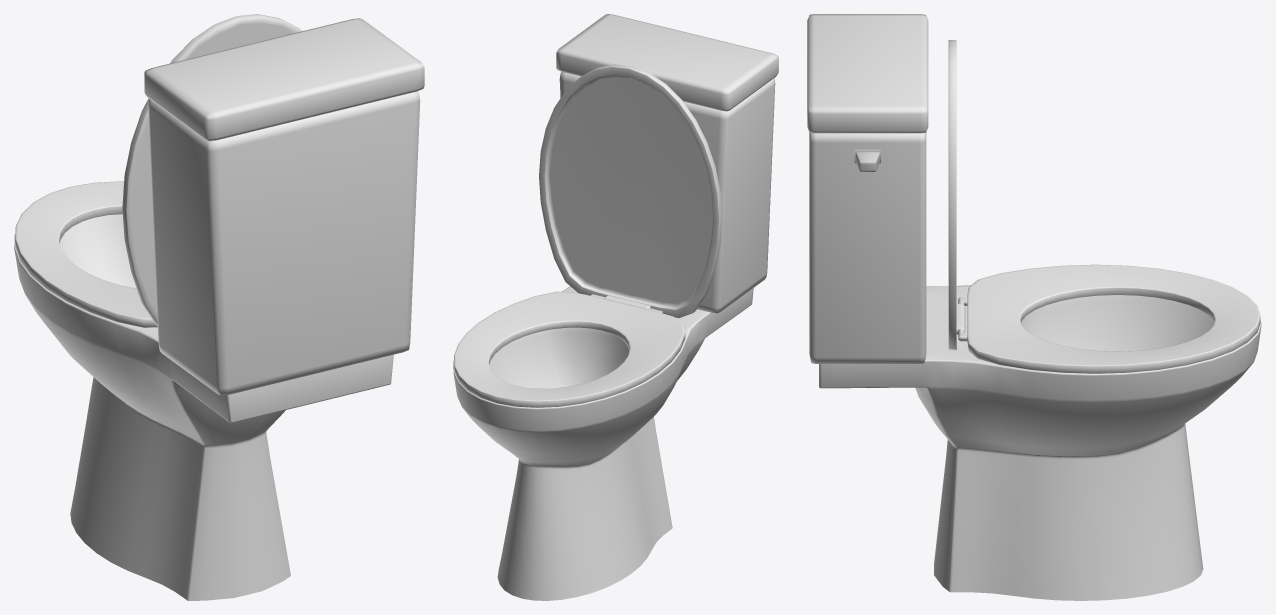
File: Toilet07.fbx
The picture shows the model from 3 angles, left to right: view 1: azimuth 30°, elevation 25°; view 2: azimuth 150°, elevation 25°; view 3: azimuth 270°, elevation 25°; orthographic projection. The views are drawn at different scales.
Visible parts, largest first — view 1: Toilet07, ToiletSeat07, ToiletCover07; view 2: Toilet07, ToiletCover07, ToiletSeat07; view 3: Toilet07, ToiletSeat07, ToiletCover07.
Boxes of the visible parts, <box> form: Toilet07: <box>14,18,424,600</box>; ToiletSeat07: <box>15,181,157,327</box>; ToiletCover07: <box>122,14,302,325</box>; Toilet07: <box>453,14,778,600</box>; ToiletCover07: <box>539,64,722,318</box>; ToiletSeat07: <box>454,291,685,407</box>; Toilet07: <box>807,14,1261,600</box>; ToiletSeat07: <box>958,264,1260,373</box>; ToiletCover07: <box>948,40,965,350</box>.
Bounding box in the file's own units: 37.93 × 84.92 × 67.07.
